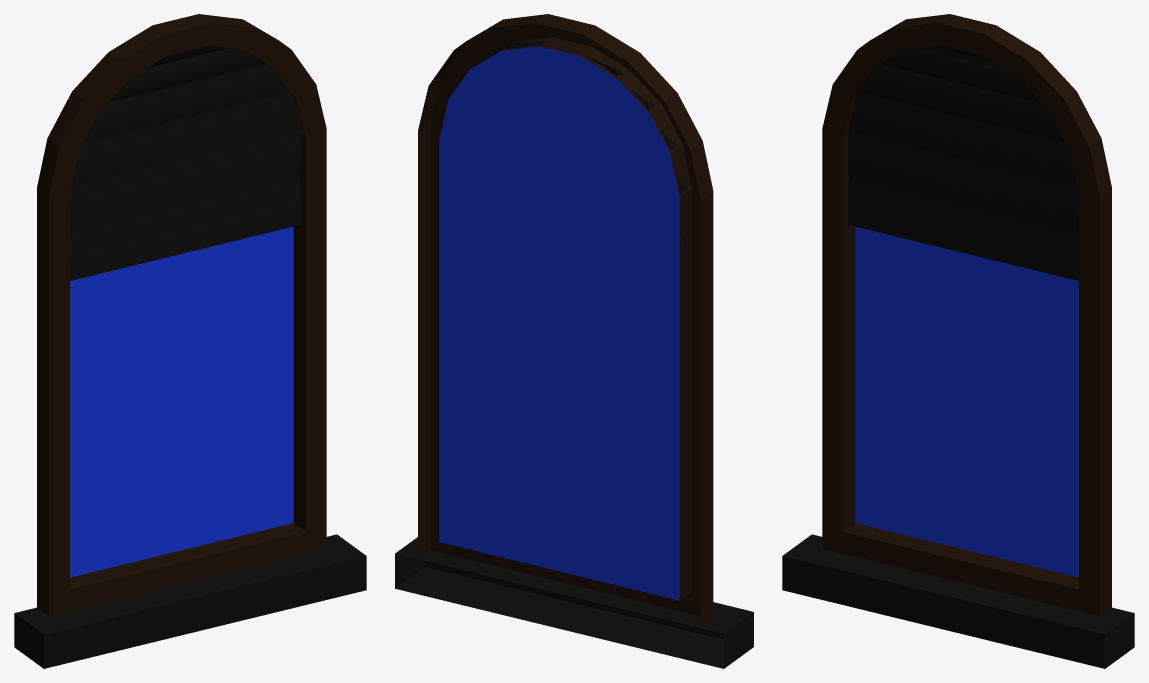
The model's file is Finestra3.FBX.
3 views of the same model, side by side, from view 1: azimuth 30°, elevation 25°; view 2: azimuth 150°, elevation 25°; view 3: azimuth 330°, elevation 25° (orthographic).
Visible parts, largest first — view 1: Finestra3; view 2: Finestra3; view 3: Finestra3.
Part boxes in pixels (x1,y1,x2,y2): Finestra3: [14, 14, 366, 668]; Finestra3: [395, 14, 753, 668]; Finestra3: [782, 14, 1134, 668].
Bounding box in the file's own units: 53.97 × 94.08 × 8.53.
